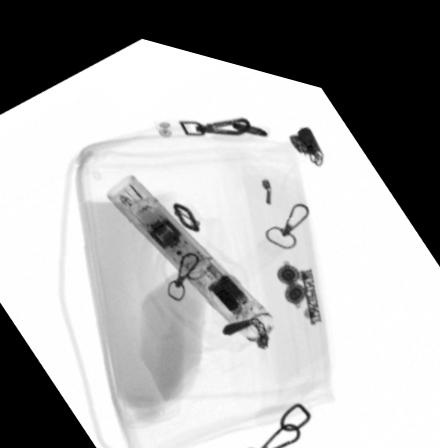Baton: (105, 163, 275, 330)
